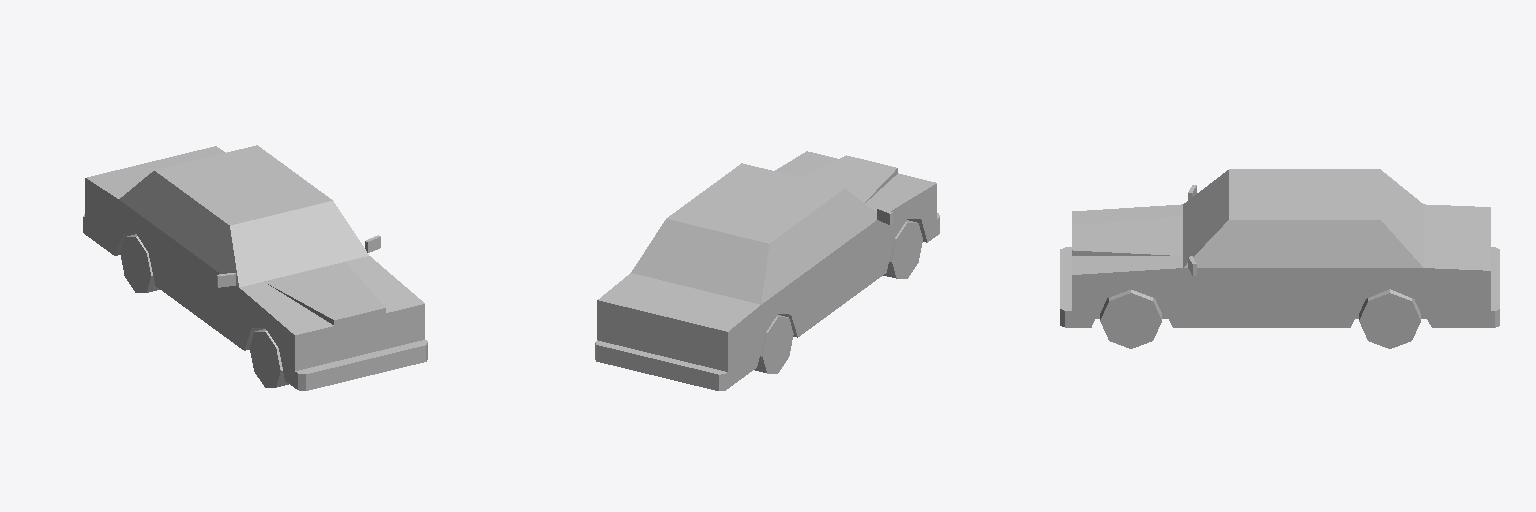
Rendered from sedan_02_white.obj.
The picture shows the model from 3 angles: view 1: azimuth 30°, elevation 25°; view 2: azimuth 150°, elevation 25°; view 3: azimuth 270°, elevation 25°; orthographic projection.
Parts seen in each view (by area): view 1: Sedan_02_White, Wheel_FR, Wheel_RR; view 2: Sedan_02_White, Wheel_FR, Wheel_RR; view 3: Sedan_02_White, Wheel_FL, Wheel_RL.
Boxes of the visible parts, <box> form: Sedan_02_White: <box>83,145,427,390</box>; Wheel_FR: <box>250,329,288,387</box>; Wheel_RR: <box>120,234,159,292</box>; Sedan_02_White: <box>595,151,939,390</box>; Wheel_FR: <box>883,220,922,278</box>; Wheel_RR: <box>754,315,793,373</box>; Sedan_02_White: <box>1060,169,1499,327</box>; Wheel_FL: <box>1100,290,1161,348</box>; Wheel_RL: <box>1359,289,1420,348</box>.
Bounding box in the file's own units: 0.9312 × 0.6703 × 2.18.